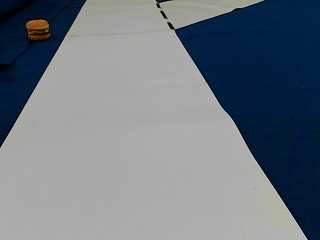burger: (25, 17, 50, 40)
